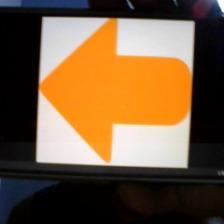left: (41, 18, 190, 161)
